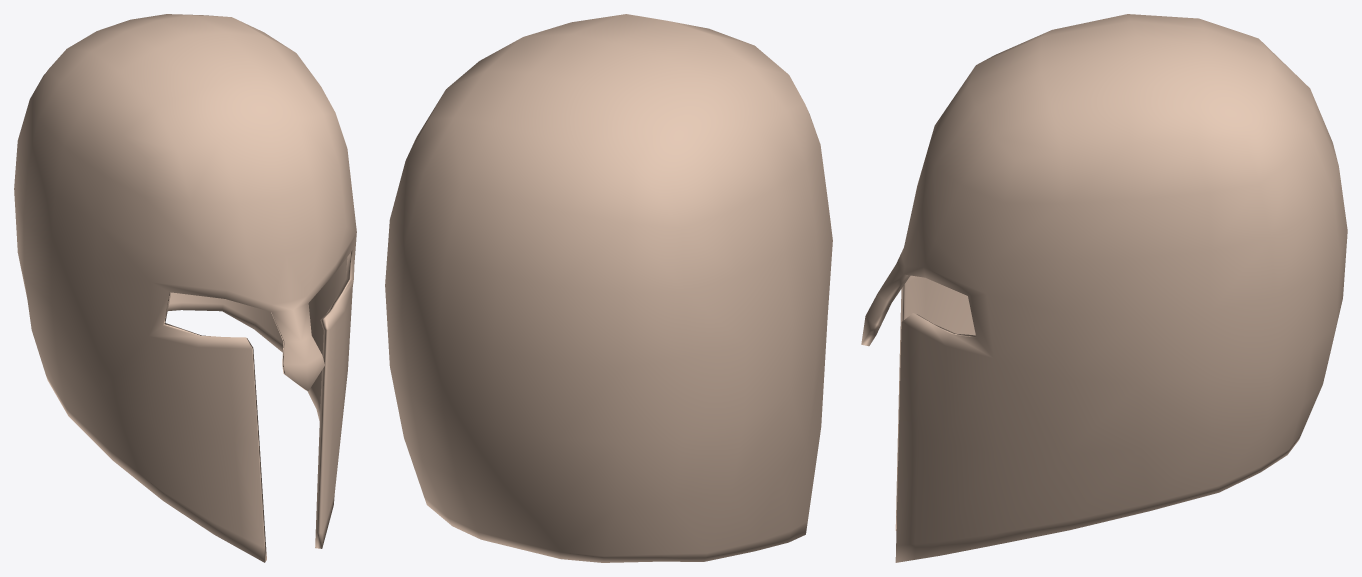
The model's file is Helmet.fbx.
The picture shows the model from 3 angles, left to right: view 1: azimuth 30°, elevation 25°; view 2: azimuth 150°, elevation 25°; view 3: azimuth 270°, elevation 25°; orthographic projection. The views are drawn at different scales.
Visible parts, largest first — view 1: FantasyHelmet:Helmet; view 2: FantasyHelmet:Helmet; view 3: FantasyHelmet:Helmet.
Boxes of the visible parts, bbox=[...] form: FantasyHelmet:Helmet: bbox=[14, 14, 356, 562]; FantasyHelmet:Helmet: bbox=[385, 14, 832, 562]; FantasyHelmet:Helmet: bbox=[861, 14, 1347, 562].
Bounding box in the file's own units: 17.46 × 26.99 × 23.33.
